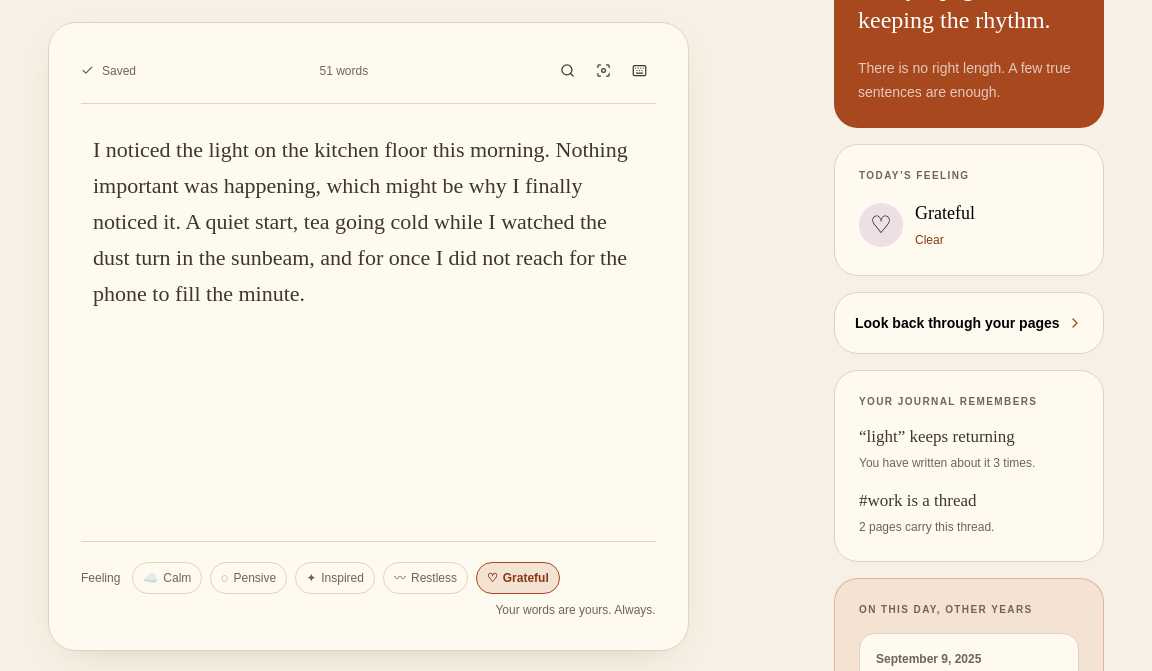
Test case: Offline write queue › queues a Today save when the network fails, then syncs on reconnect
(page scrolled)
Step 1. Replace the text in the text box with test id "today-editor-textarea" with "Offline words that must not be lost." → [368, 319], box [81,104,656,534]
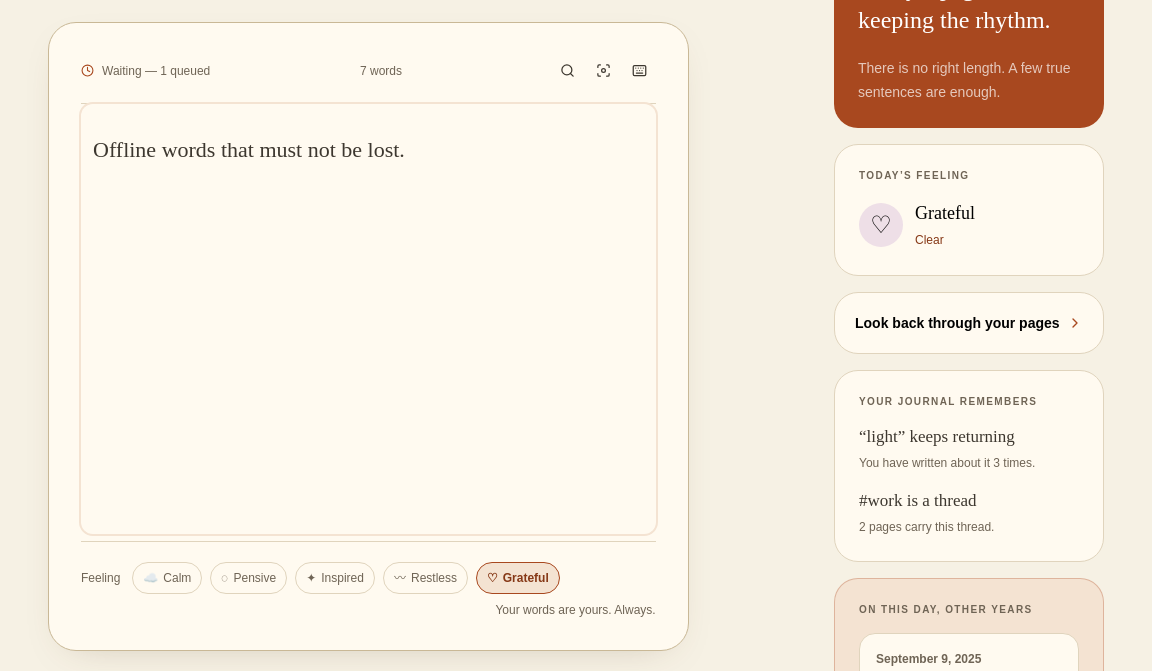
Check: the element with test id "save-status-indicator" reads "Waiting — 1 queued", box [102,64,210,78]
